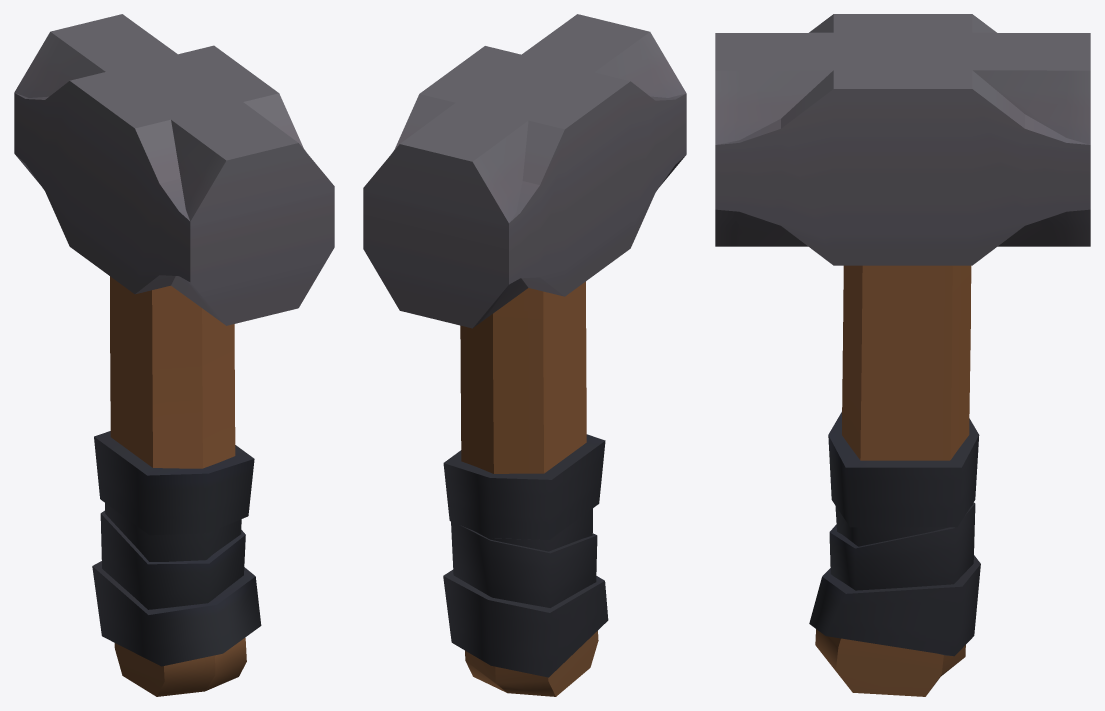
The model's file is MeleeWeaponAgent_HammerL.fbx.
3 views of the same model, side by side, from view 1: azimuth 30°, elevation 25°; view 2: azimuth 150°, elevation 25°; view 3: azimuth 270°, elevation 25° (orthographic). The views are drawn at different scales.
Visible parts, largest first — view 1: Hammer03; view 2: Hammer03; view 3: Hammer03.
Part boxes in pixels (<box>): Hammer03: <box>14,14,334,696</box>; Hammer03: <box>363,14,686,696</box>; Hammer03: <box>715,14,1090,696</box>.
Size of the model in its own units: 0.2417 by 0.9399 by 0.5109.
